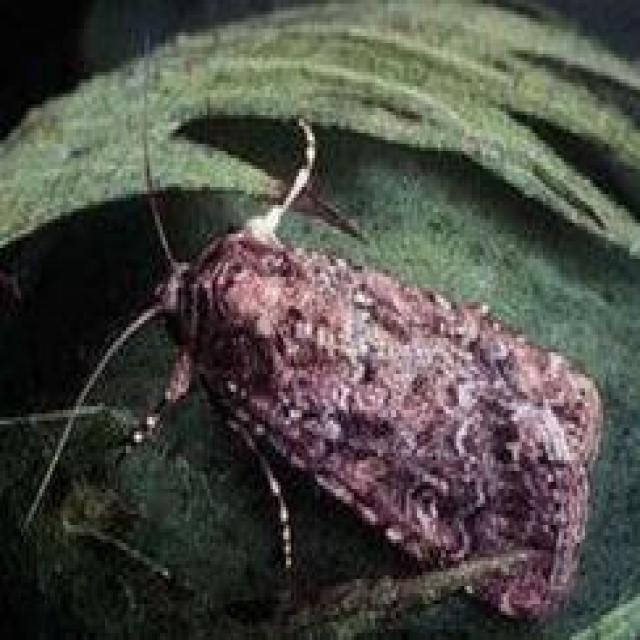BeetArmyWorm-Adult-: (120, 149, 608, 623)
